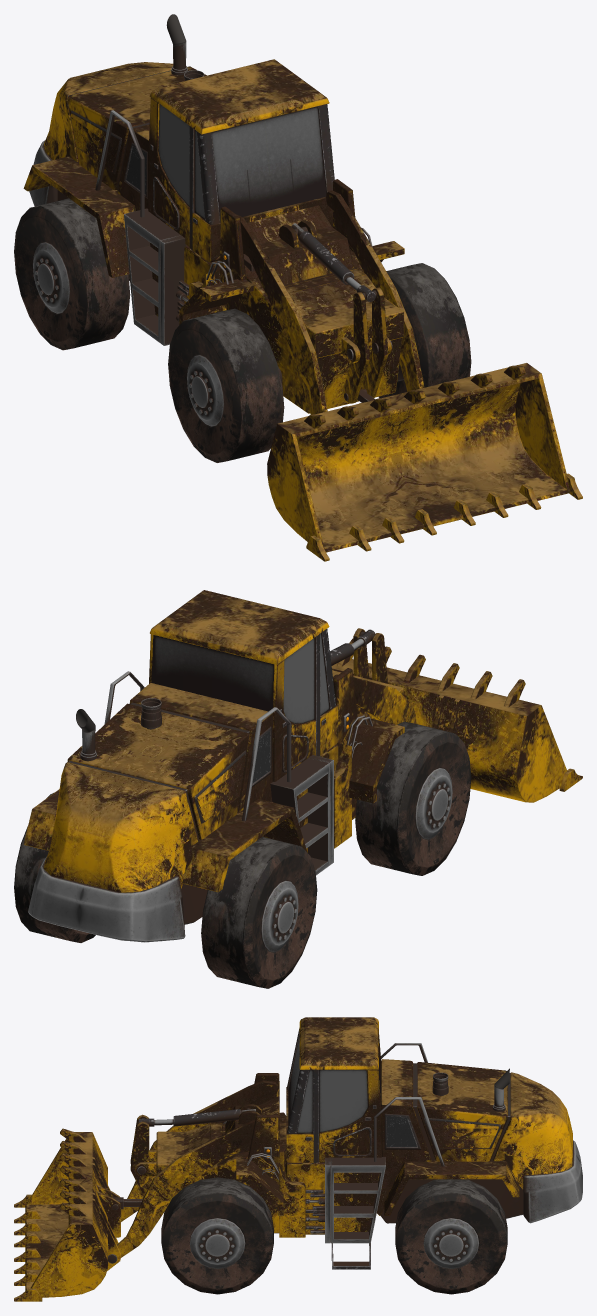
The model's file is dl_bulldozer.glb.
3 views of the same model, one above another, from view 1: azimuth 30°, elevation 25°; view 2: azimuth 150°, elevation 25°; view 3: azimuth 270°, elevation 25° (orthographic). The views are drawn at different scales.
Visible parts, largest first — view 1: pCube79; view 2: pCube79; view 3: pCube79.
Part boxes in pixels (x1,y1,x2,y2): pCube79: (14,14,582,561); pCube79: (14,590,582,988); pCube79: (14,1017,582,1301).
Size of the model in its own units: 1.27 by 1.33 by 3.2.
Materials: 7 (7 with a texture image).
